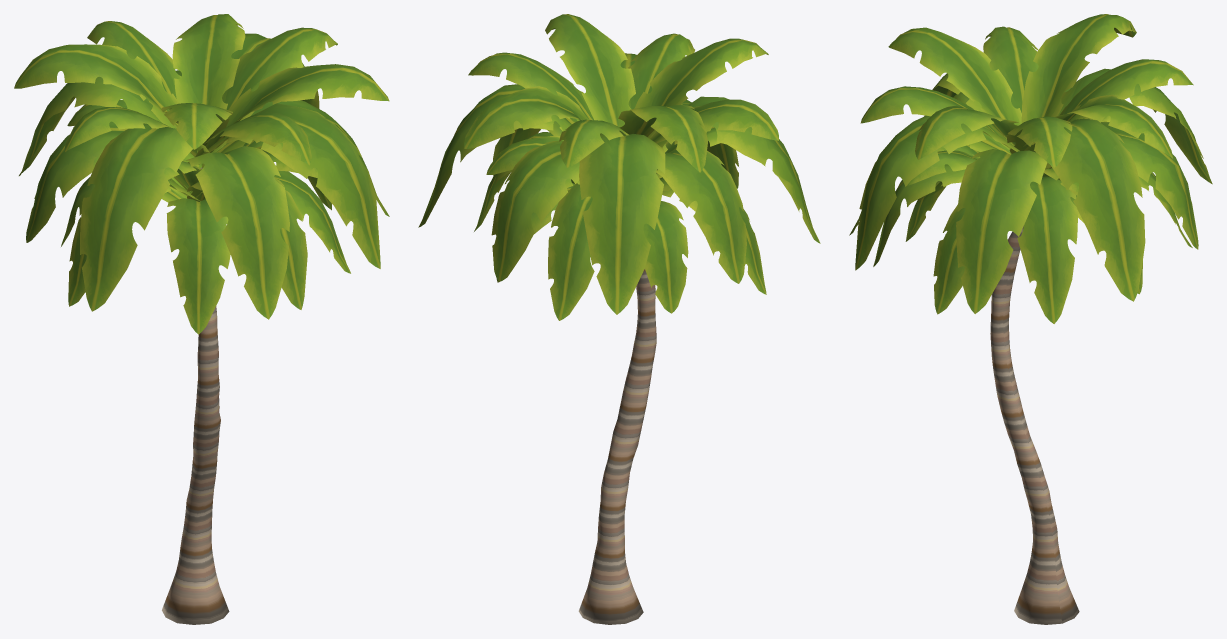
The model's file is PalmTree3.fbx.
3 views of the same model, side by side, from view 1: azimuth 30°, elevation 25°; view 2: azimuth 150°, elevation 25°; view 3: azimuth 270°, elevation 25° (orthographic). The views are drawn at different scales.
Visible parts, largest first — view 1: Plane.625; view 2: Plane.625; view 3: Plane.625.
Boxes of the visible parts, x1,y1,x2,y2 form: Plane.625: [14, 14, 389, 624]; Plane.625: [418, 14, 820, 624]; Plane.625: [849, 14, 1212, 624].
Size of the model in its own units: 1076 by 1823 by 1095.
